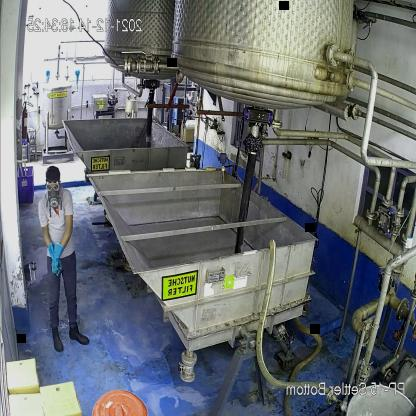goggles: (43, 180, 63, 194)
mask: (44, 187, 63, 209)
shoes: (49, 322, 65, 356), (69, 321, 89, 347)
